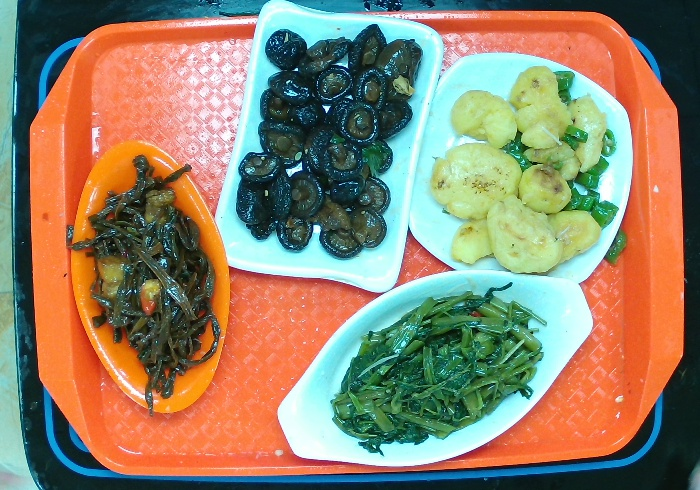RJxy-Ju_Huang_Tuo_Yuan: (68, 142, 231, 413)
RJxy-Si_Fang_Ao_Bian_Wan: (209, 1, 442, 298)
RJxy-Si_Fang_Die: (404, 52, 634, 293)
RJxy-Yu_Pan: (274, 265, 596, 469)
